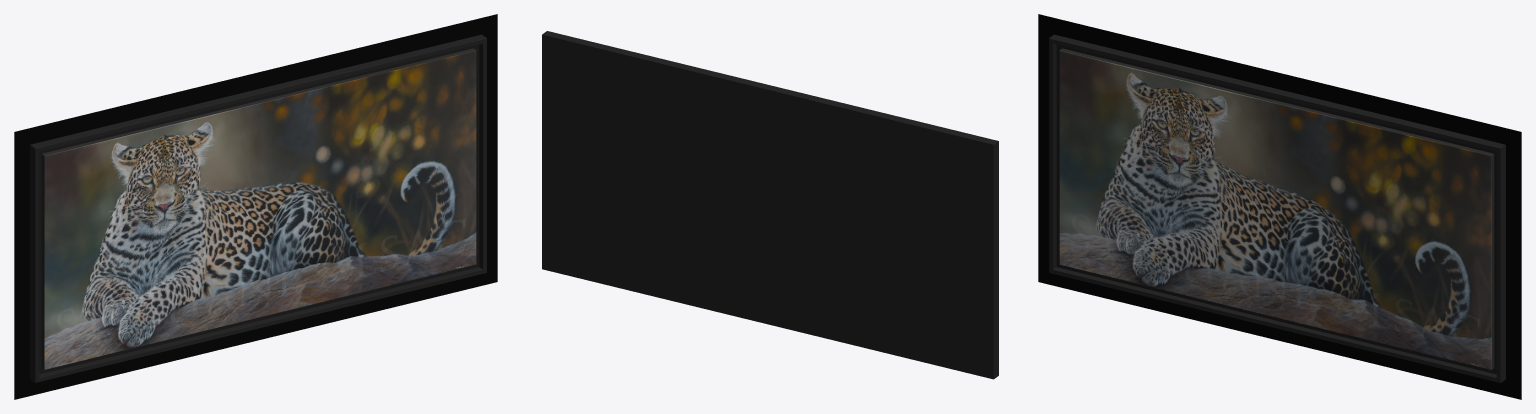
Rendered from tableau-leopard-geant-a9deef00.glb.
3 renders of one model, left to right at view 1: azimuth 30°, elevation 25°; view 2: azimuth 150°, elevation 25°; view 3: azimuth 330°, elevation 25°, orthographic.
Parts seen in each view (by area): view 1: Painting; view 2: Painting; view 3: Painting.
Boxes of the visible parts, x1=… form: Painting: x1=14, y1=14, x2=497, y2=399; Painting: x1=542, y1=31, x2=998, y2=379; Painting: x1=1038, y1=14, x2=1521, y2=399.
Size of the model in its own units: 2.13 by 1.13 by 0.04.
5 materials, 3 textured.
